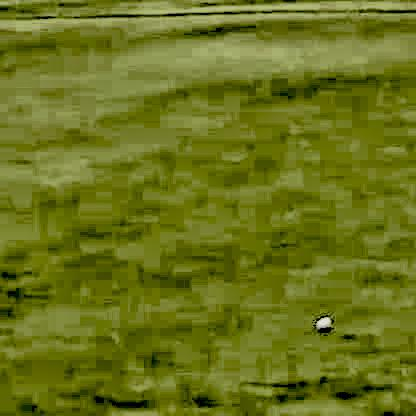golfball: (312, 311, 329, 328)
